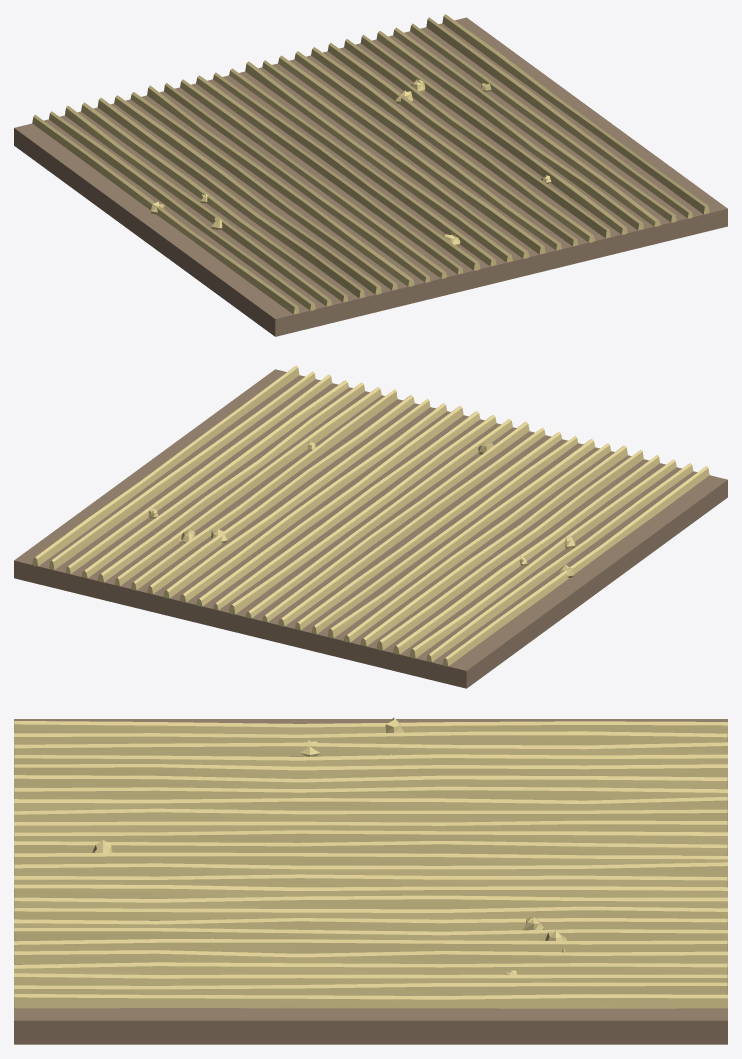
Rendered from arable-fields-and-farm-machinery-field-tile-stubble-3c79e702__16870.glb.
3 views of the same model, one above another, from view 1: azimuth 30°, elevation 25°; view 2: azimuth 150°, elevation 25°; view 3: azimuth 270°, elevation 25° (orthographic). The views are drawn at different scales.
Parts seen in each view (by area): view 1: field-tile-stubble; view 2: field-tile-stubble; view 3: field-tile-stubble.
Boxes of the visible parts, x1=… form: field-tile-stubble: x1=14, y1=14, x2=727, y2=336; field-tile-stubble: x1=14, y1=365, x2=727, y2=688; field-tile-stubble: x1=14, y1=717, x2=727, y2=1044.
Bounding box in the file's own units: 8 × 0.513 × 8.
